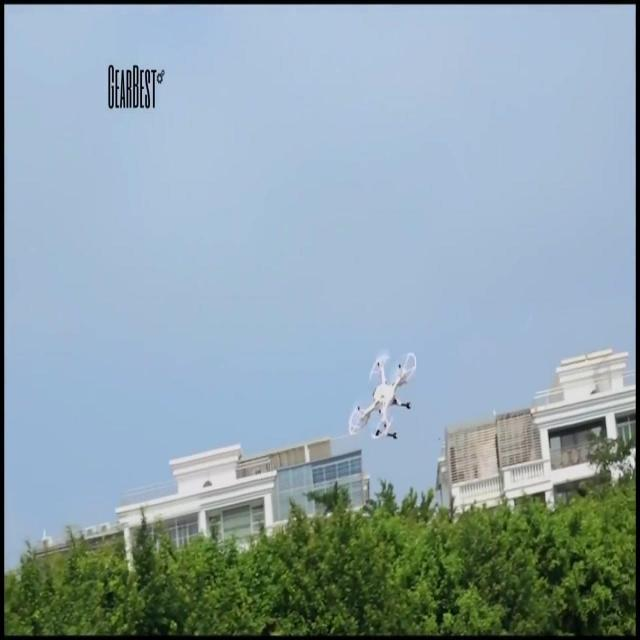UAV: (348, 353, 416, 439)
